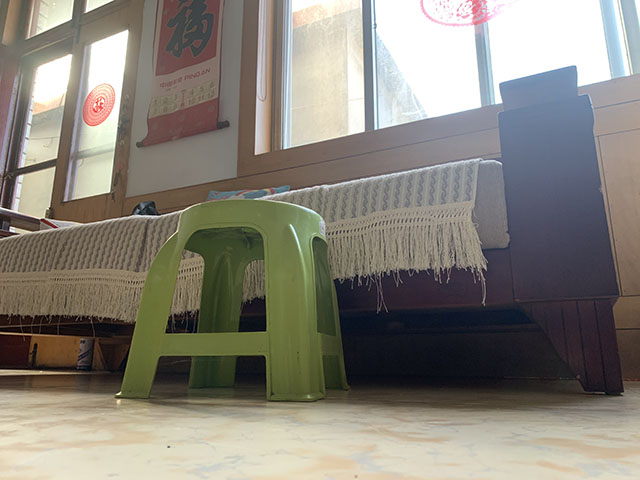sofa: (1, 64, 625, 400)
stool: (114, 198, 353, 403)
